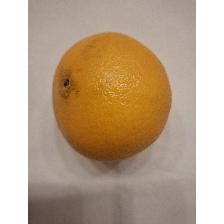Orange: (50, 31, 174, 165)
